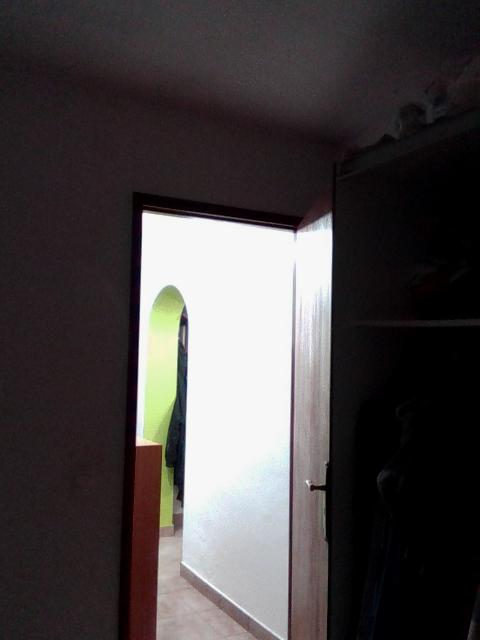open_door: (116, 189, 309, 638)
